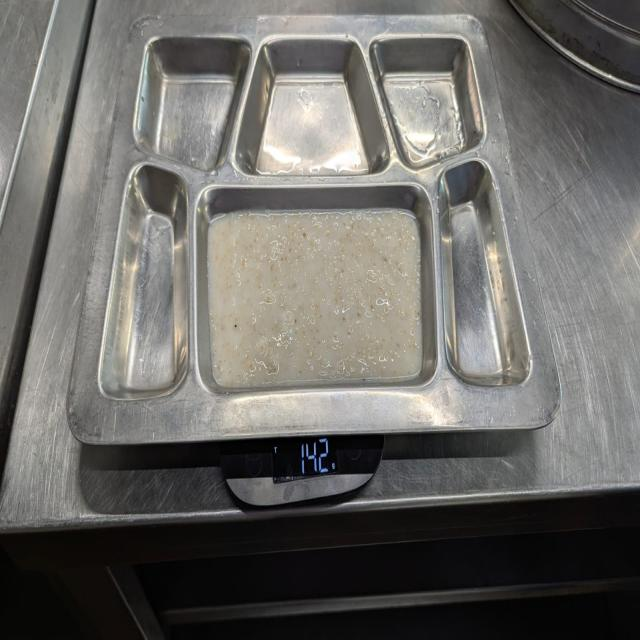Porridge: (209, 220, 420, 369)
